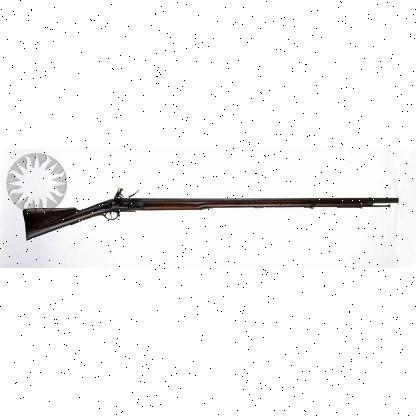gun: (23, 188, 397, 237)
